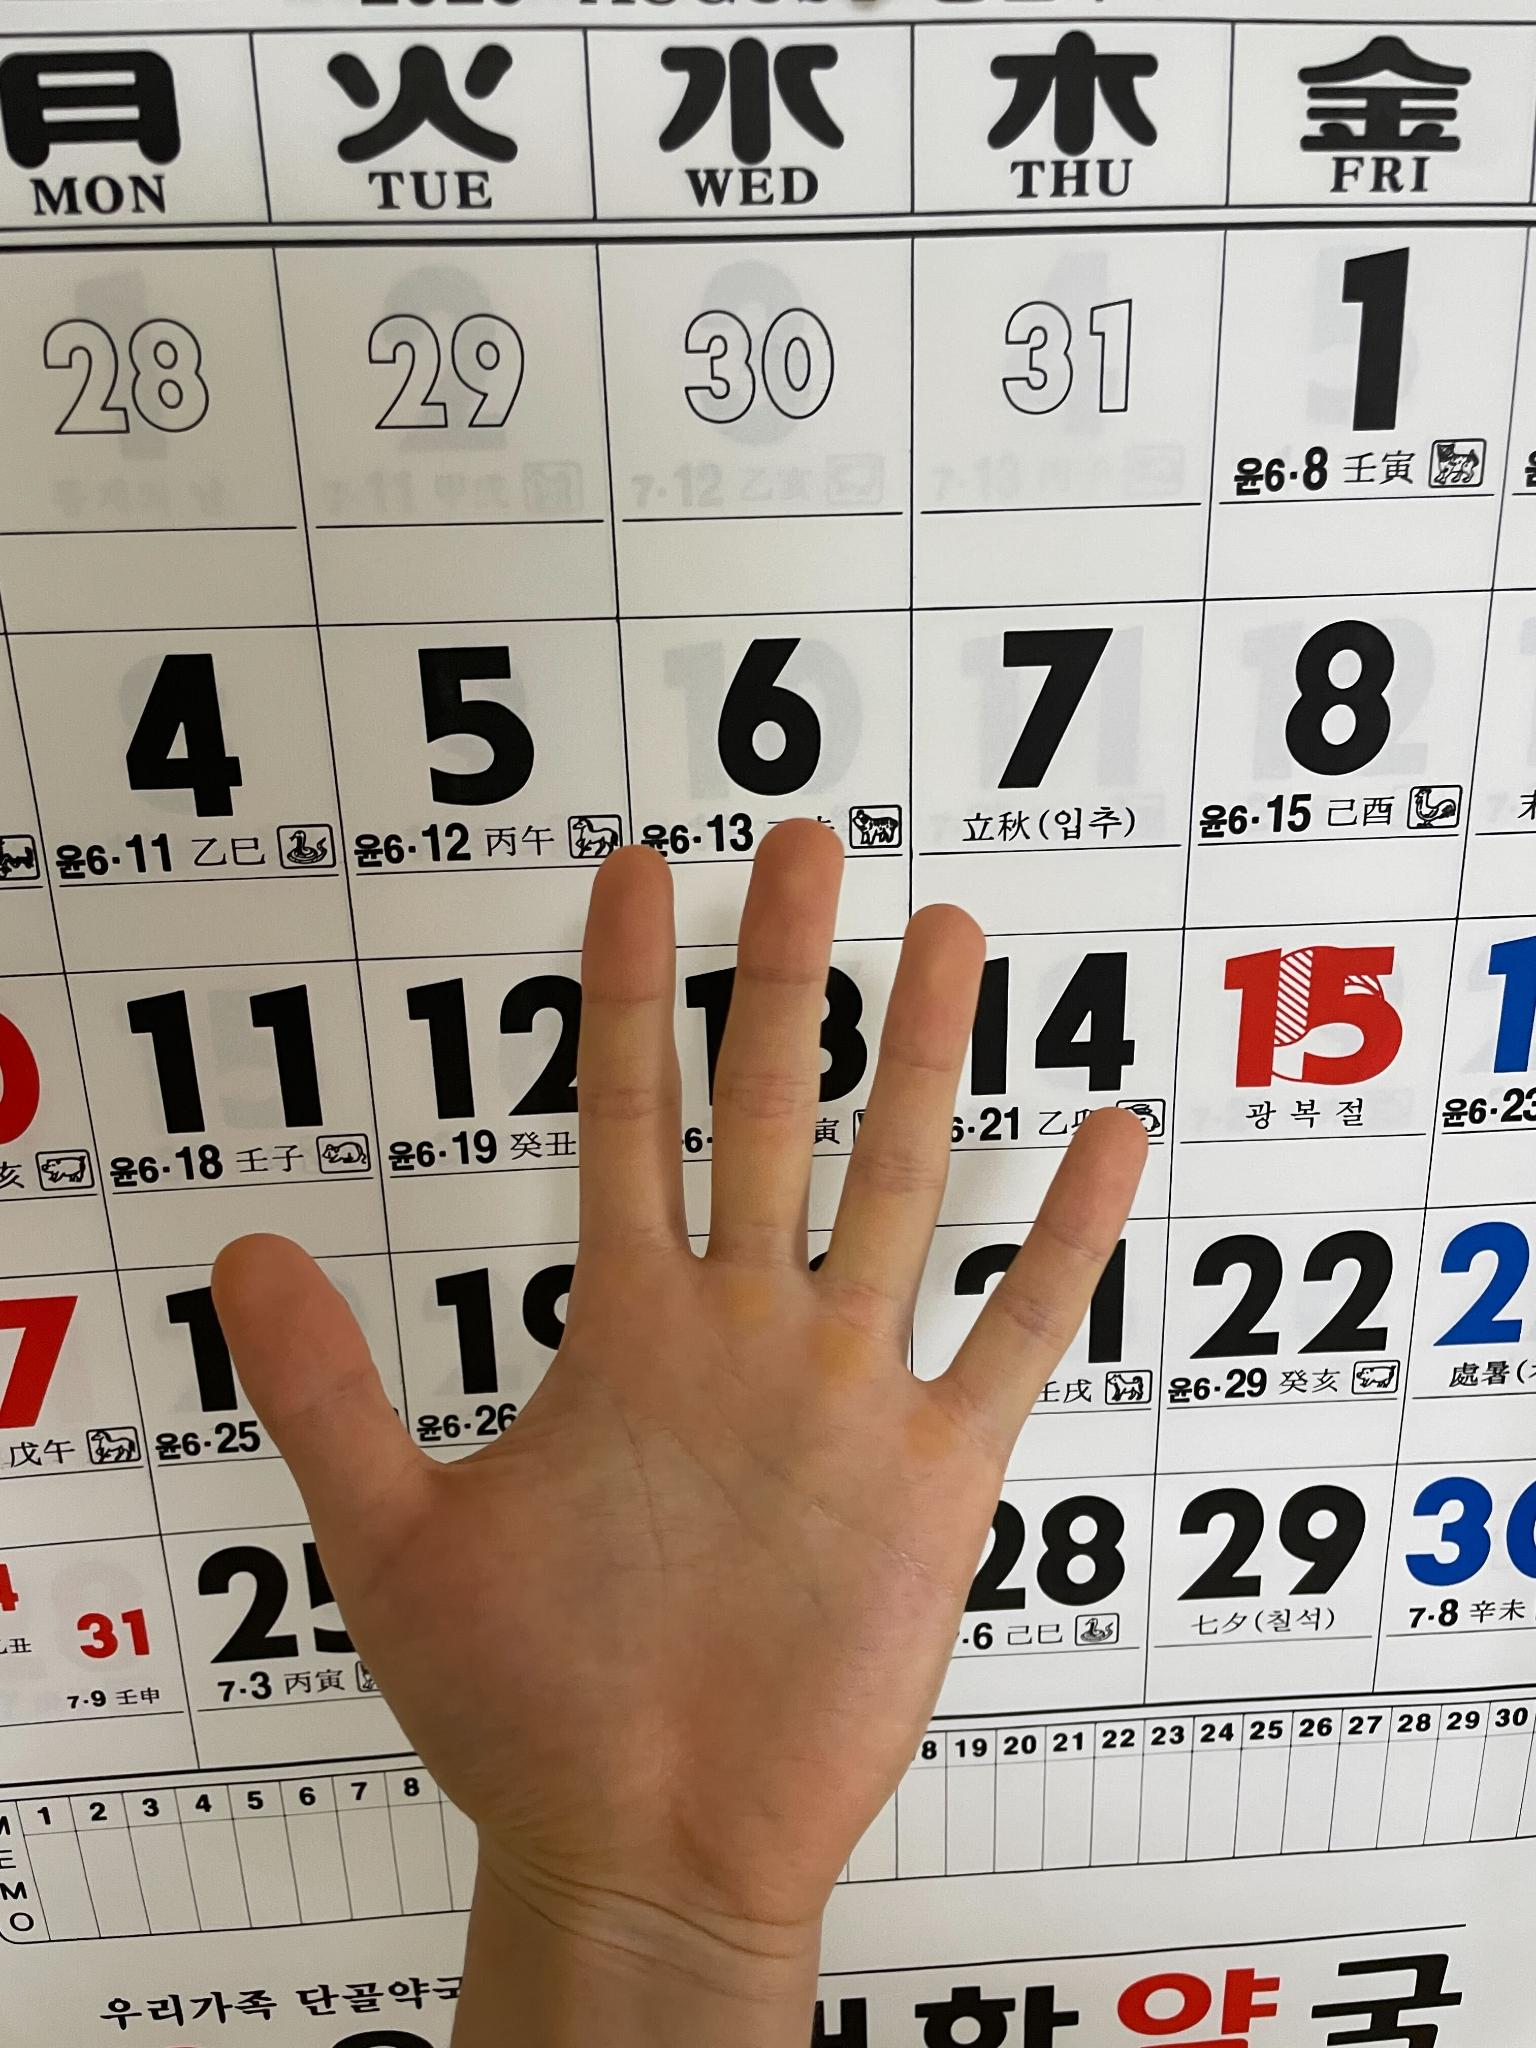open: (207, 813, 1163, 1963)
